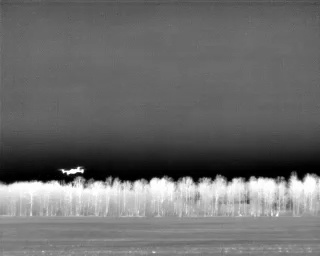DRONE: (56, 162, 88, 178)
